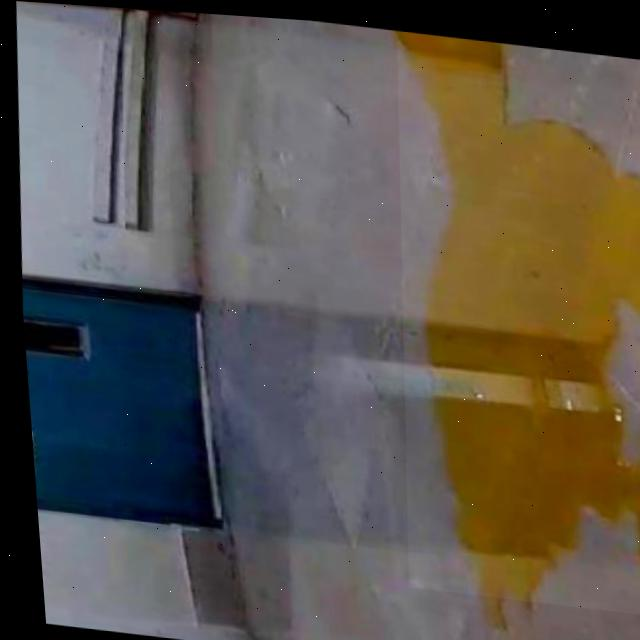spillage: (397, 25, 640, 594)
